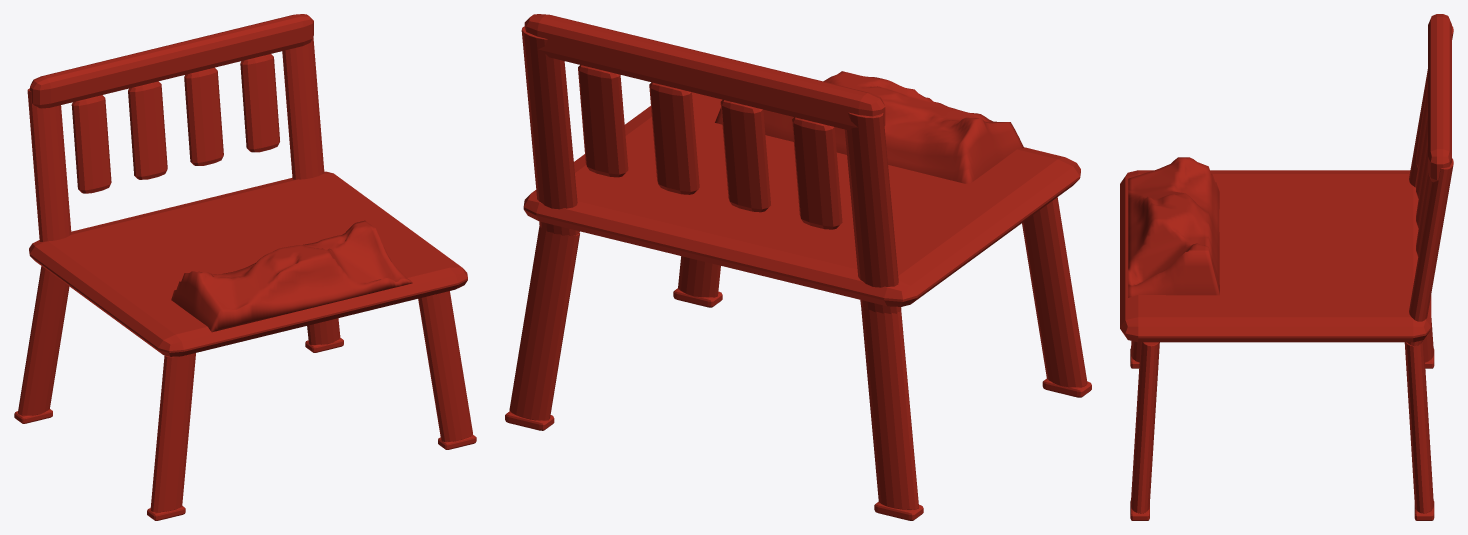
Rendered from fitted-chair.glb.
3 renders of one model, left to right at view 1: azimuth 30°, elevation 25°; view 2: azimuth 150°, elevation 25°; view 3: azimuth 270°, elevation 25°, orthographic. The views are drawn at different scales.
Parts seen in each view (by area): view 1: SEAT, Seat_Cushion, BACK_Top, LEG, LEG.002, BACK_Post.001, LEG.001, BACK_Post, BACK_Slat, BACK_Slat.001, BACK_Slat.002, BACK_Slat.003 (+1 smaller); view 2: SEAT, BACK_Top, Seat_Cushion, LEG.001, LEG.003, BACK_Post.001, LEG, BACK_Post, BACK_Slat.003, BACK_Slat, BACK_Slat.001, BACK_Slat.002 (+1 smaller); view 3: SEAT, Seat_Cushion, BACK_Top, LEG.002, LEG.003, BACK_Post, BACK_Post.001, BACK_Slat.
Part boxes in pixels (x1,y1,x2,y2): SEAT: (29, 171, 467, 356); Seat_Cushion: (171, 220, 412, 332); BACK_Top: (30, 14, 313, 108); LEG: (150, 353, 195, 512); LEG.002: (418, 291, 472, 441); BACK_Post.001: (27, 88, 71, 241); LEG.001: (18, 266, 69, 415); BACK_Post: (282, 37, 324, 179); BACK_Slat: (240, 54, 279, 152); BACK_Slat.001: (71, 95, 111, 193); BACK_Slat.002: (128, 81, 167, 179); BACK_Slat.003: (184, 67, 223, 165); SEAT: (523, 92, 1080, 306); BACK_Top: (524, 14, 885, 130); Seat_Cushion: (715, 71, 1023, 183); LEG.001: (861, 305, 918, 509); LEG.003: (509, 226, 579, 420); BACK_Post.001: (844, 112, 901, 313); LEG: (1022, 197, 1087, 387); BACK_Post: (521, 26, 579, 235); BACK_Slat.003: (649, 82, 699, 194); BACK_Slat: (578, 65, 628, 177); BACK_Slat.001: (792, 117, 842, 229); BACK_Slat.002: (720, 100, 770, 212); SEAT: (1120, 170, 1431, 342); Seat_Cushion: (1128, 157, 1219, 297); BACK_Top: (1428, 14, 1451, 182); LEG.002: (1130, 342, 1159, 513); LEG.003: (1404, 340, 1433, 513); BACK_Post: (1407, 158, 1453, 345); BACK_Post.001: (1409, 26, 1453, 187); BACK_Slat: (1416, 170, 1431, 256).
Size of the model in its own units: 0.3213 by 0.315 by 0.2686.
